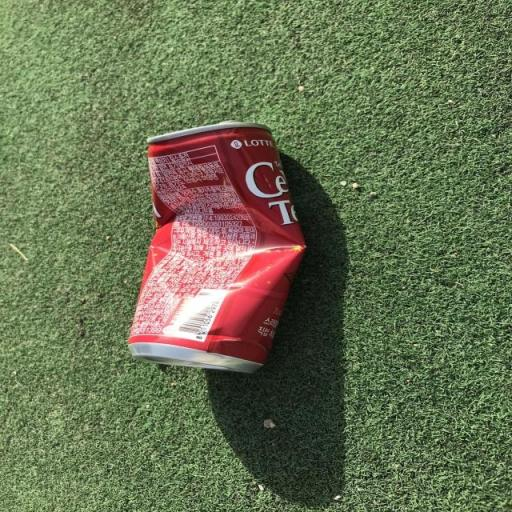metal: (110, 107, 338, 400)
